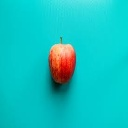apple: (48, 36, 77, 86)
